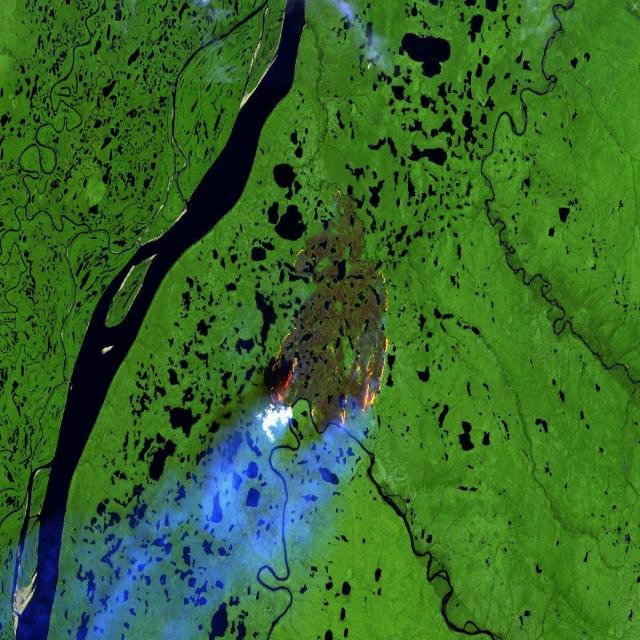fire: (261, 241, 398, 435)
